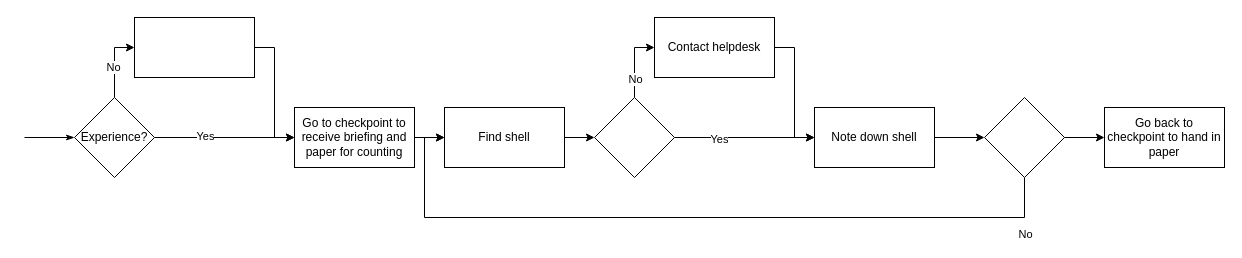
Image size: 1242x258. Some labels were removed from this diagram. The centre of each missing label's shape, as x and y in pixels:
Clear species?: pixel 634 137
Stop?: pixel 1024 137
Workshop: pixel 194 47
